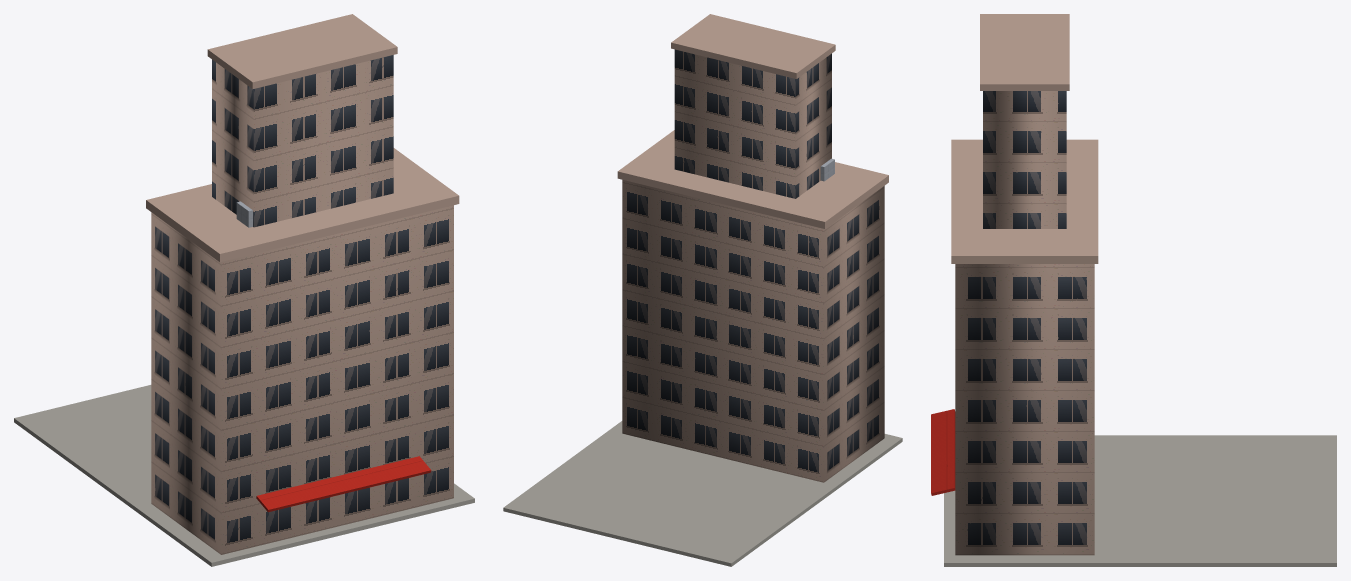
The model's file is predio_centro_alto.glb.
3 renders of one model, left to right at view 1: azimuth 30°, elevation 25°; view 2: azimuth 150°, elevation 25°; view 3: azimuth 270°, elevation 25°, orthographic. The views are drawn at different scales.
Visible parts, largest first — view 1: predio_centro_alto, predio_centro_alto_liso; view 2: predio_centro_alto, predio_centro_alto_liso; view 3: predio_centro_alto, predio_centro_alto_liso.
Part boxes in pixels (left/top/right/bottom): predio_centro_alto: left=151, top=55, right=453, bottom=554; predio_centro_alto_liso: left=14, top=14, right=474, bottom=566; predio_centro_alto: left=622, top=49, right=884, bottom=482; predio_centro_alto_liso: left=503, top=14, right=902, bottom=566; predio_centro_alto: left=931, top=91, right=1094, bottom=555; predio_centro_alto_liso: left=944, top=14, right=1336, bottom=566.
Bounding box in the file's own units: 20 × 33.16 × 26.87.
Materials: 4 (3 with a texture image).
